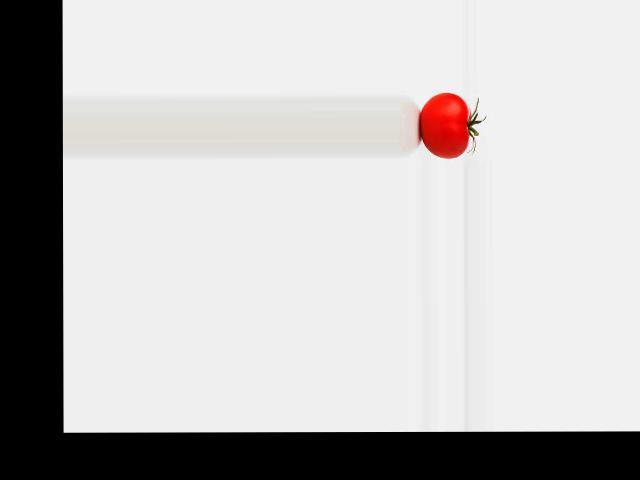tomato: (420, 92, 469, 157)
